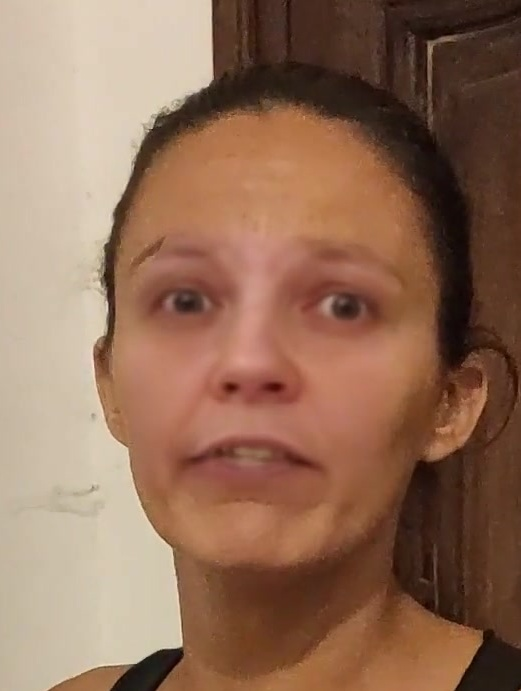eb_f: (125, 224, 416, 346)
